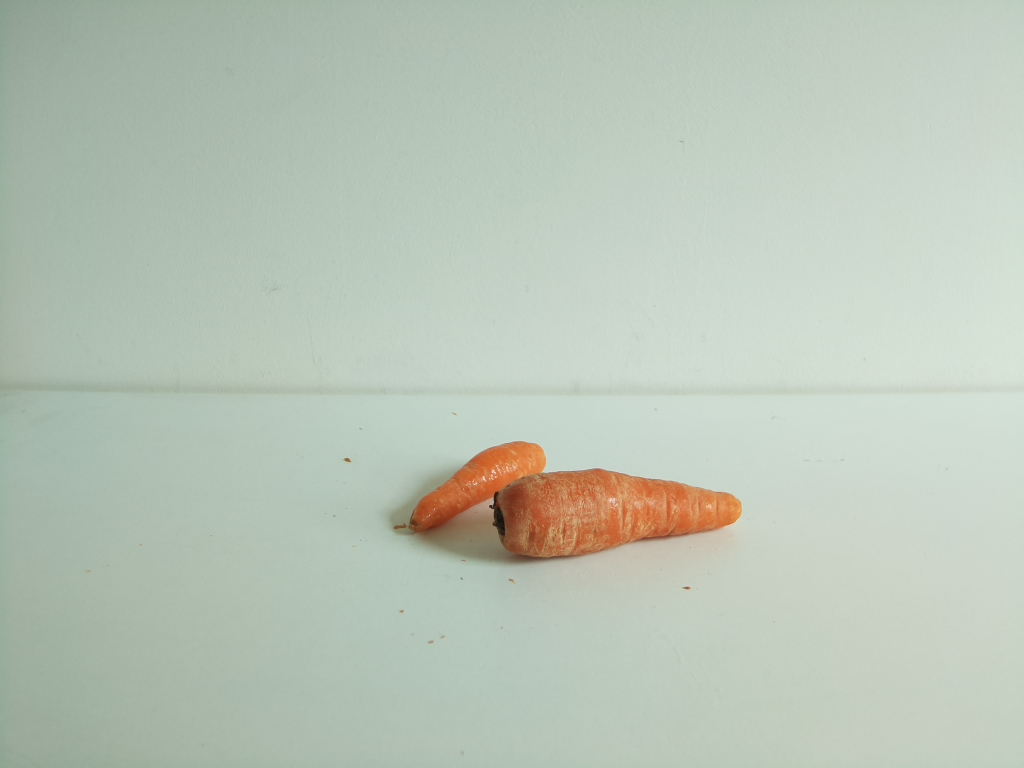carrot: (408, 440, 745, 566)
